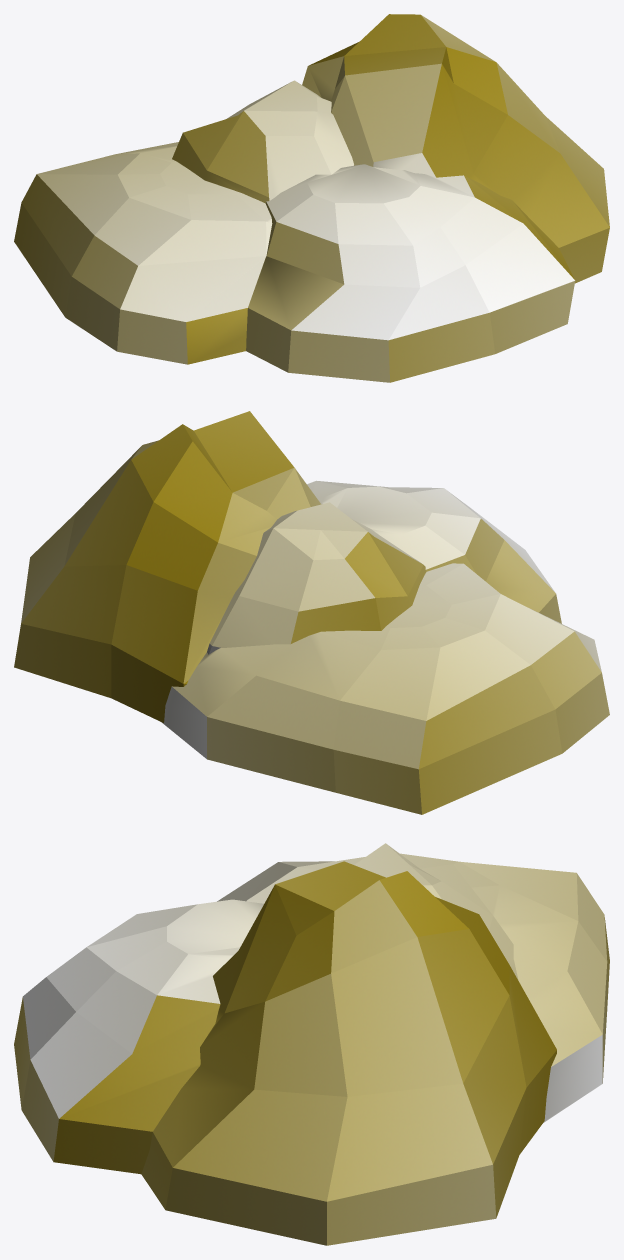
Rendered from Rock5.obj.
The picture shows the model from 3 angles, top to bottom: view 1: azimuth 30°, elevation 25°; view 2: azimuth 150°, elevation 25°; view 3: azimuth 270°, elevation 25°; orthographic projection. The views are drawn at different scales.
Parts seen in each view (by area): view 1: Rock5:group5 Rock5:pasted__group3 Rock5:pasted__pasted__pSphere1, Rock5:group2 Rock5:pasted__group Rock5:pasted__pasted__pSphere1S, Rock5:group4 Rock5:pasted__group2 Rock5:pasted__pasted__pSphere1, Rock5:group3 Rock5:pasted__group1 Rock5:pasted__pasted__pSphere1; view 2: Rock5:group2 Rock5:pasted__group Rock5:pasted__pasted__pSphere1S, Rock5:group4 Rock5:pasted__group2 Rock5:pasted__pasted__pSphere1, Rock5:group3 Rock5:pasted__group1 Rock5:pasted__pasted__pSphere1, Rock5:group5 Rock5:pasted__group3 Rock5:pasted__pasted__pSphere1; view 3: Rock5:group4 Rock5:pasted__group2 Rock5:pasted__pasted__pSphere1, Rock5:group5 Rock5:pasted__group3 Rock5:pasted__pasted__pSphere1, Rock5:group2 Rock5:pasted__group Rock5:pasted__pasted__pSphere1S, Rock5:group3 Rock5:pasted__group1 Rock5:pasted__pasted__pSphere1.
Boxes of the visible parts, left/top/right/bottom form: Rock5:group5 Rock5:pasted__group3 Rock5:pasted__pasted__pSphere1: left=246, top=164, right=575, bottom=382; Rock5:group2 Rock5:pasted__group Rock5:pasted__pasted__pSphere1S: left=14, top=142, right=272, bottom=364; Rock5:group4 Rock5:pasted__group2 Rock5:pasted__pasted__pSphere1: left=302, top=14, right=609, bottom=283; Rock5:group3 Rock5:pasted__group1 Rock5:pasted__pasted__pSphere1: left=172, top=80, right=353, bottom=203; Rock5:group2 Rock5:pasted__group Rock5:pasted__pasted__pSphere1S: left=162, top=563, right=609, bottom=814; Rock5:group4 Rock5:pasted__group2 Rock5:pasted__pasted__pSphere1: left=14, top=411, right=322, bottom=722; Rock5:group3 Rock5:pasted__group1 Rock5:pasted__pasted__pSphere1: left=207, top=502, right=426, bottom=654; Rock5:group5 Rock5:pasted__group3 Rock5:pasted__pasted__pSphere1: left=307, top=480, right=561, bottom=623; Rock5:group4 Rock5:pasted__group2 Rock5:pasted__pasted__pSphere1: left=141, top=861, right=556, bottom=1245; Rock5:group5 Rock5:pasted__group3 Rock5:pasted__pasted__pSphere1: left=14, top=899, right=263, bottom=1174; Rock5:group2 Rock5:pasted__group Rock5:pasted__pasted__pSphere1S: left=217, top=853, right=609, bottom=1122; Rock5:group3 Rock5:pasted__group1 Rock5:pasted__pasted__pSphere1: left=354, top=843, right=518, bottom=980.
Size of the model in its own units: 15.22 by 6.14 by 12.2.
4 materials, 2 textured.
